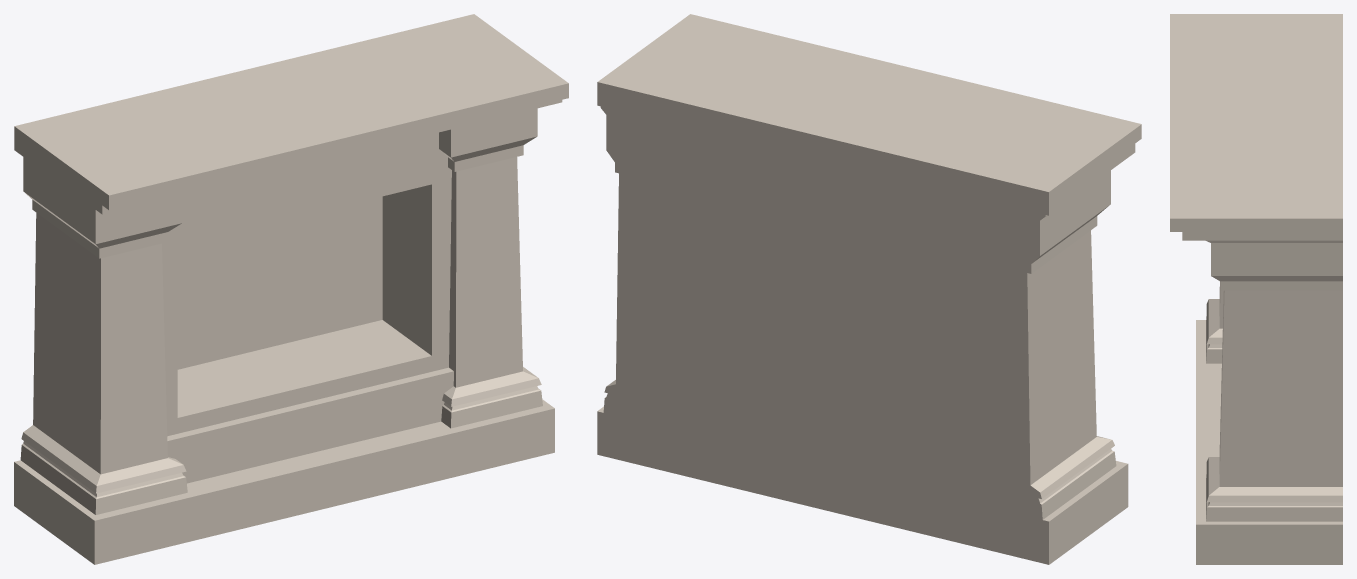
The model's file is fireplace.glb.
3 renders of one model, left to right at view 1: azimuth 30°, elevation 25°; view 2: azimuth 150°, elevation 25°; view 3: azimuth 270°, elevation 25°, orthographic. The views are drawn at different scales.
Parts seen in each view (by area): view 1: Fireplace; view 2: Fireplace; view 3: Fireplace.
Part boxes in pixels (x1,y1,x2,y2): Fireplace: [14, 14, 568, 564]; Fireplace: [597, 14, 1141, 564]; Fireplace: [1170, 14, 1342, 564].
Size of the model in its own units: 3.25 by 2.56 by 1.16.
